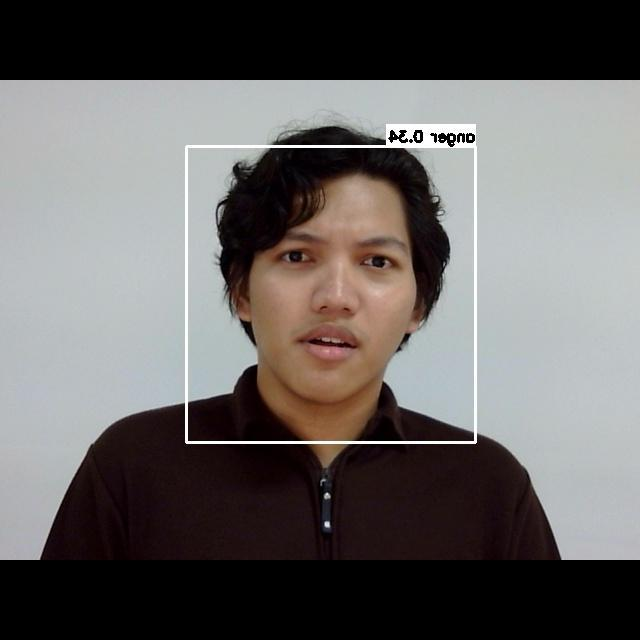Surprised: (239, 196, 431, 379)
